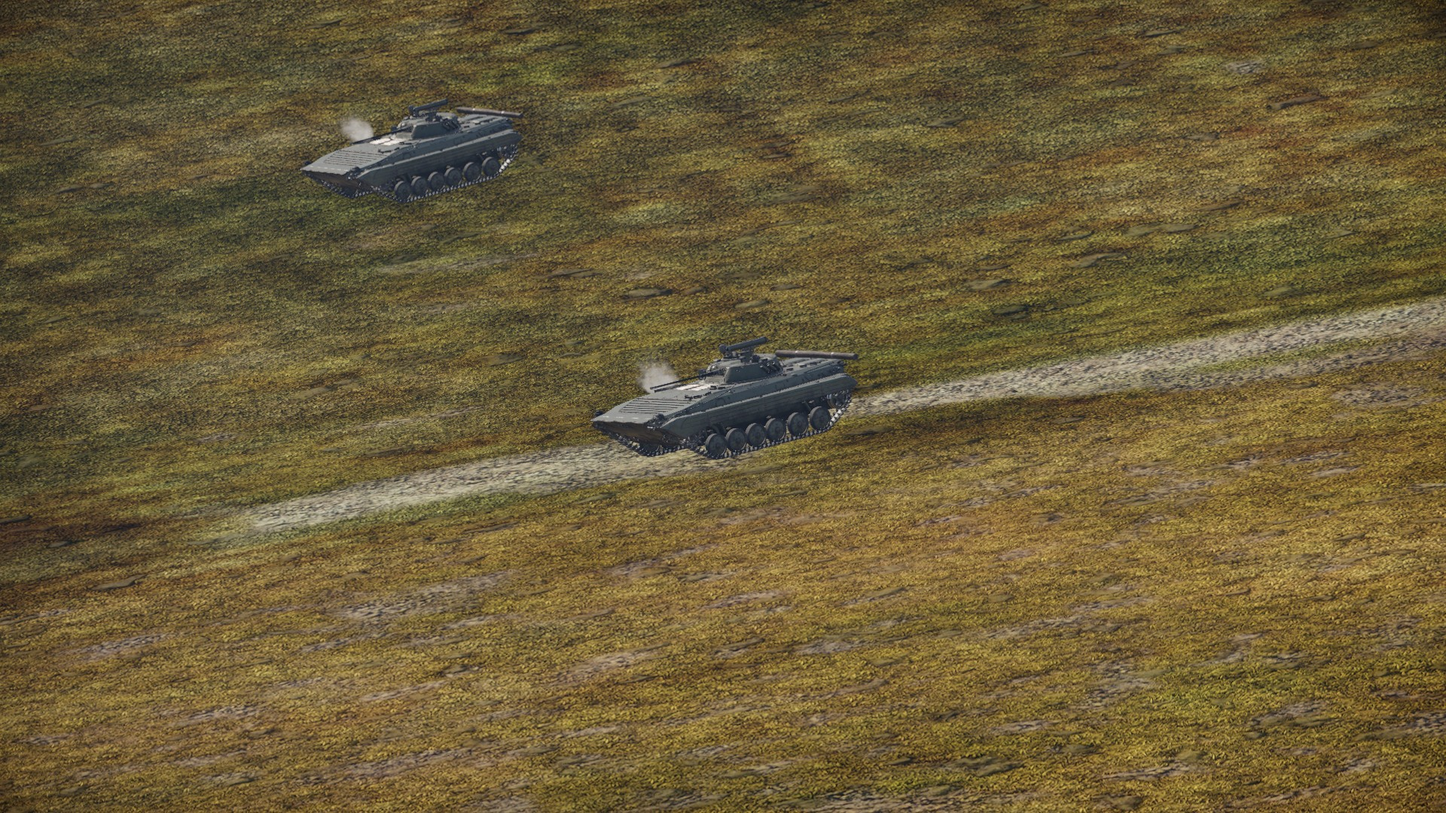bmp2: (590, 335, 858, 462), (300, 101, 526, 204)
